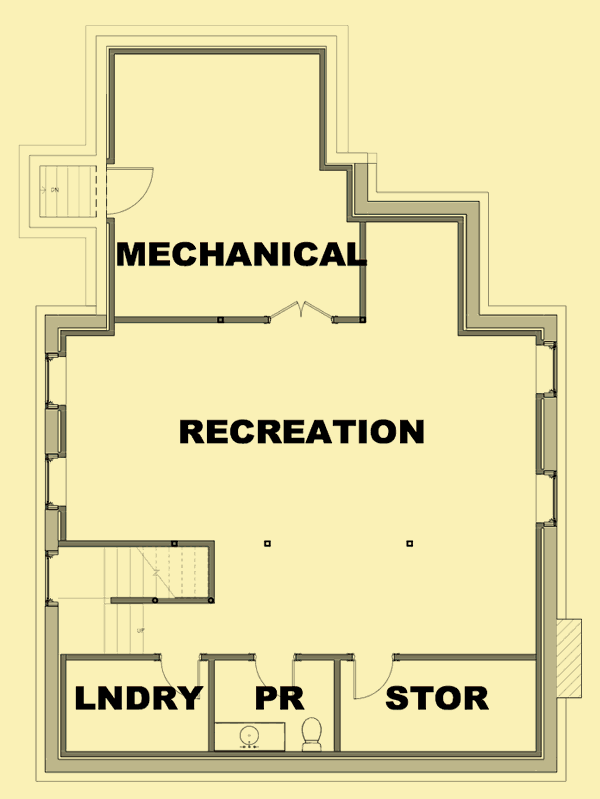door: (101, 166, 155, 217), (161, 651, 207, 705), (346, 657, 396, 702), (248, 655, 300, 698), (271, 298, 331, 327)
large_sink: (296, 716, 325, 750)
small_sink: (213, 721, 289, 755)
stairs: (102, 544, 215, 652), (38, 163, 98, 221)
window: (41, 454, 68, 514), (532, 342, 560, 396), (532, 469, 558, 527), (43, 355, 66, 416)
